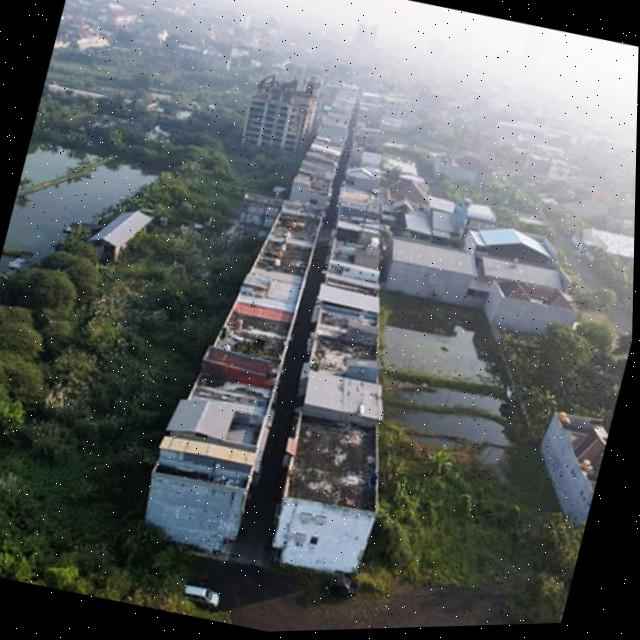building: (249, 217, 441, 586), (137, 193, 322, 563), (369, 217, 593, 352), (517, 399, 613, 536), (234, 59, 322, 160), (419, 138, 510, 200), (562, 210, 635, 283)
